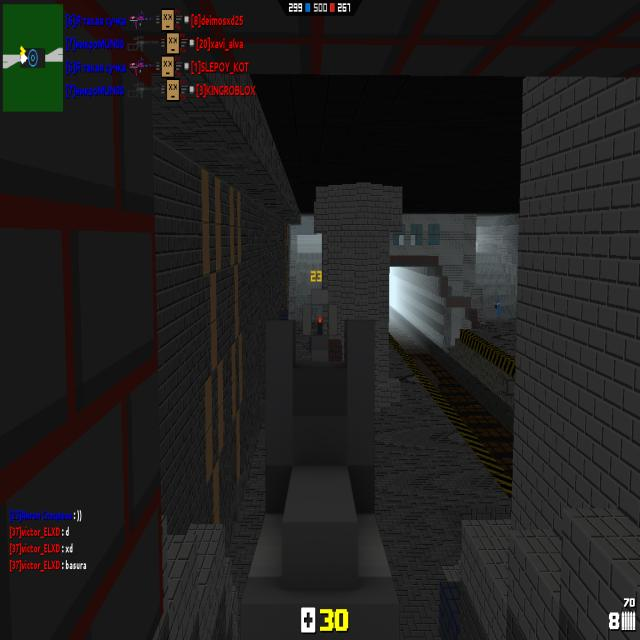enemy: (494, 298, 500, 320), (475, 238, 478, 252)
